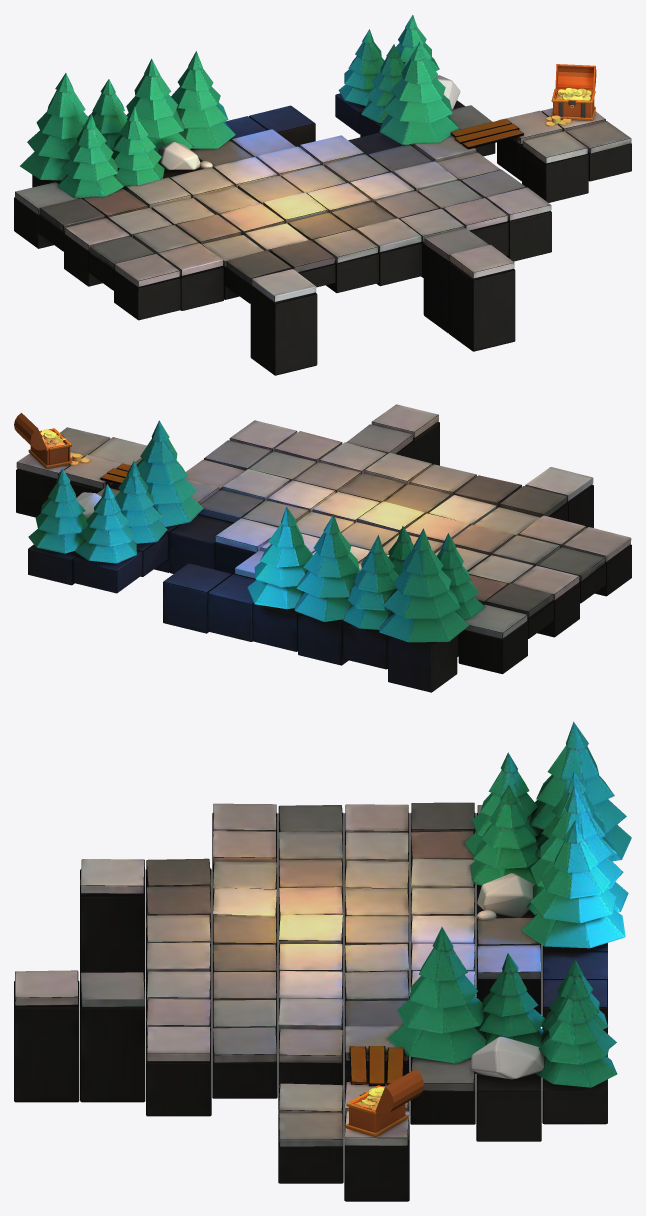
The model's file is island.glb.
3 views of the same model, one above another, from view 1: azimuth 30°, elevation 25°; view 2: azimuth 150°, elevation 25°; view 3: azimuth 270°, elevation 25° (orthographic). The views are drawn at different scales.
Parts seen in each view (by area): view 1: island.001, tree.010, chest.001, rock.002; view 2: island.001, tree.010, chest.001; view 3: island.001, tree.010, rock.002, chest.001.
Part boxes in pixels (left/top/right/bottom): island.001: left=14, top=93, right=631, bottom=375; tree.010: left=20, top=15, right=459, bottom=197; chest.001: left=546, top=64, right=596, bottom=126; rock.002: left=158, top=75, right=460, bottom=169; island.001: left=16, top=404, right=631, bottom=692; tree.010: left=28, top=420, right=484, bottom=642; chest.001: left=14, top=413, right=89, bottom=468; island.001: left=14, top=802, right=607, bottom=1201; tree.010: left=387, top=721, right=631, bottom=1087; rock.002: left=471, top=873, right=545, bottom=1079; chest.001: left=346, top=1069, right=423, bottom=1137.
Size of the model in its own units: 12.16 by 3.81 by 9.35.
4 materials, 4 textured.
